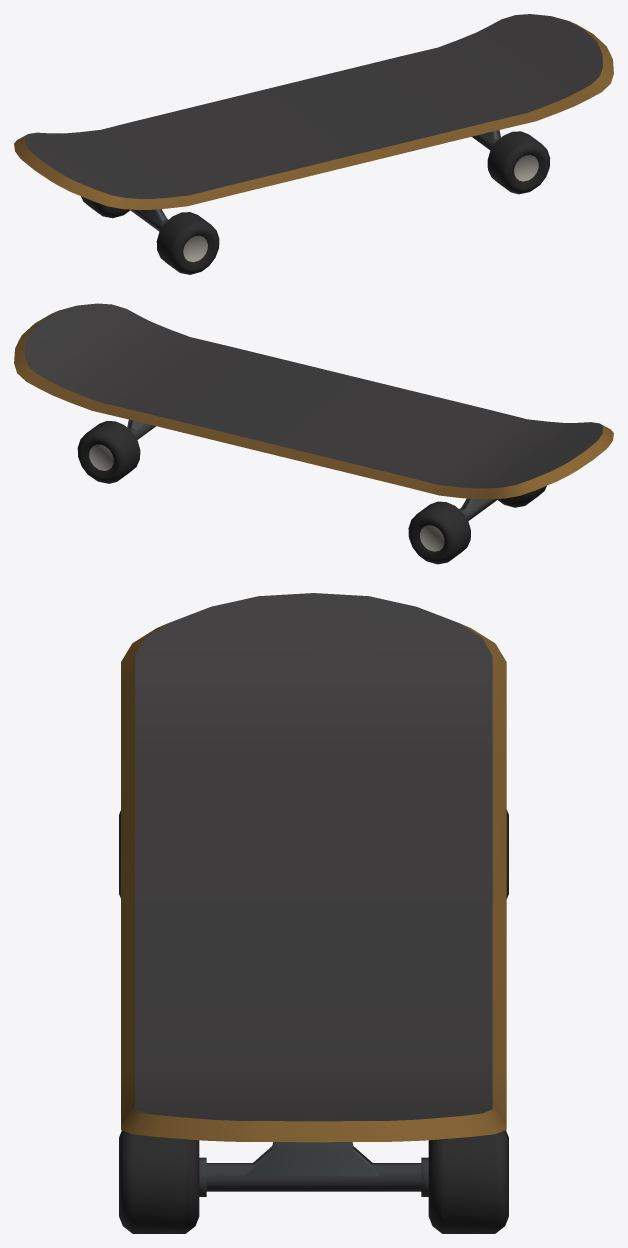
File: PP_Skateboard.fbx
3 views of the same model, one above another, from view 1: azimuth 30°, elevation 25°; view 2: azimuth 150°, elevation 25°; view 3: azimuth 270°, elevation 25° (orthographic). The views are drawn at different scales.
Visible parts, largest first — view 1: board, wheel1, wheel3, wheel4; view 2: board, wheel4, wheel2, wheel3; view 3: board, wheel2, wheel1.
Boxes of the visible parts, bbox=[...] form: board: bbox=[14, 14, 613, 231]; wheel1: bbox=[487, 131, 550, 194]; wheel3: bbox=[156, 212, 219, 274]; wheel4: bbox=[81, 196, 129, 218]; board: bbox=[14, 303, 613, 520]; wheel4: bbox=[408, 501, 470, 564]; wheel2: bbox=[77, 421, 140, 483]; wheel3: bbox=[498, 486, 546, 507]; board: bbox=[121, 593, 506, 1196]; wheel2: bbox=[428, 1130, 508, 1233]; wheel1: bbox=[119, 1130, 199, 1233].
Size of the model in its own units: 112 by 20.02 by 33.84.
1 material, 1 textured.
